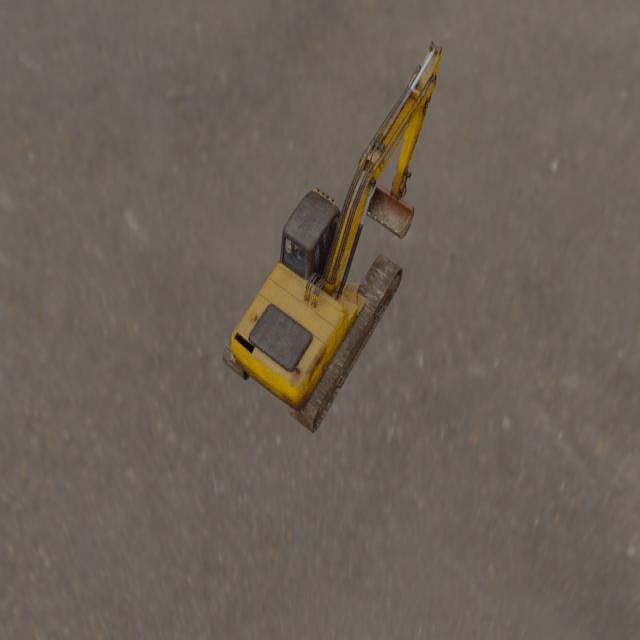excavator: (222, 40, 442, 433)
